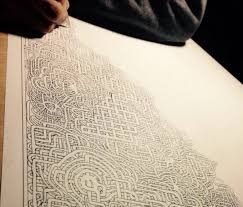maze: (23, 84, 141, 207), (142, 153, 201, 207), (202, 184, 234, 207)
